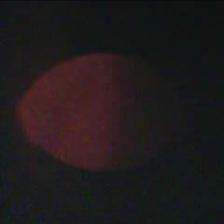fertile: (12, 45, 188, 172)
